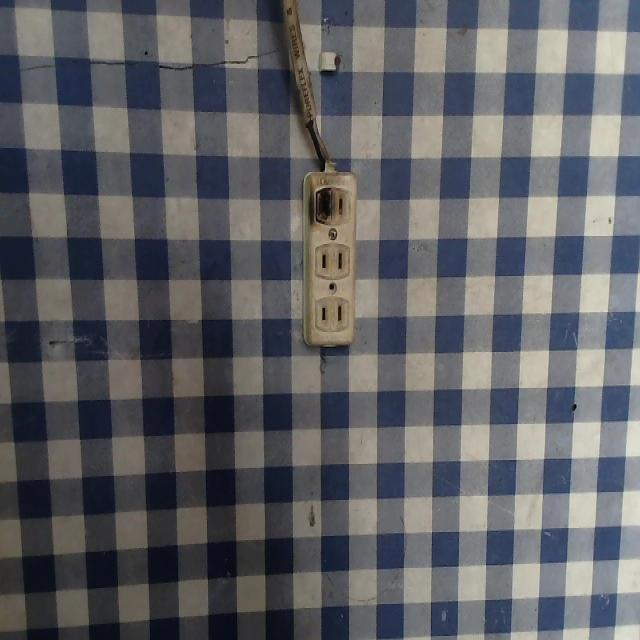-: (306, 180, 334, 225)
